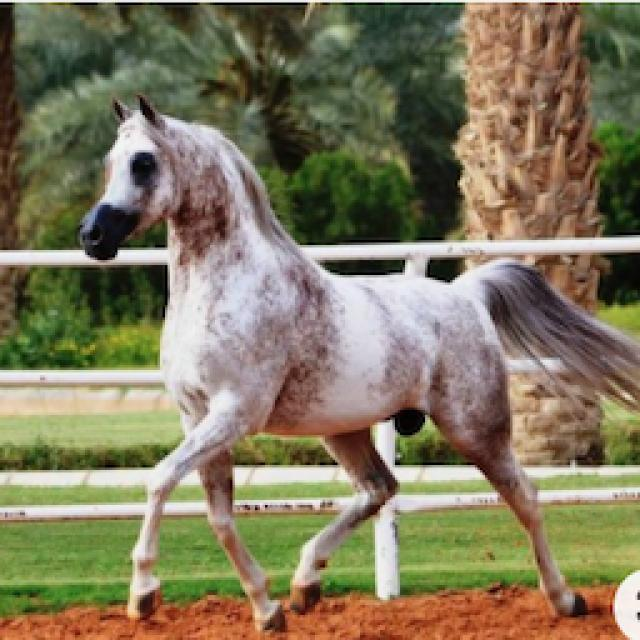Horse: (68, 87, 638, 635)
